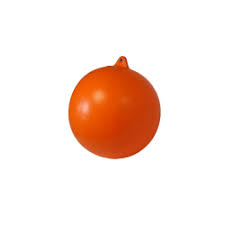buoy: (67, 67, 161, 159)
